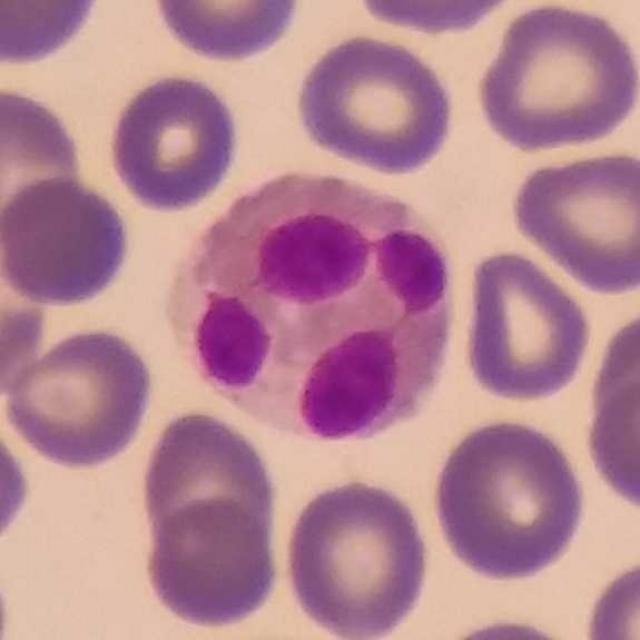Eosinophil: (176, 174, 474, 447)
RBC: (427, 413, 591, 584), (472, 0, 640, 154), (281, 473, 435, 640), (292, 30, 459, 178), (0, 323, 159, 472), (134, 405, 282, 560), (456, 246, 596, 406), (104, 69, 243, 215), (506, 146, 640, 295), (138, 496, 284, 632), (0, 174, 136, 310), (0, 81, 88, 248), (0, 203, 53, 401), (148, 0, 307, 66), (581, 365, 640, 518), (584, 298, 640, 456), (0, 0, 108, 70), (350, 0, 526, 37), (0, 408, 35, 554), (581, 554, 640, 640), (424, 612, 596, 640)
